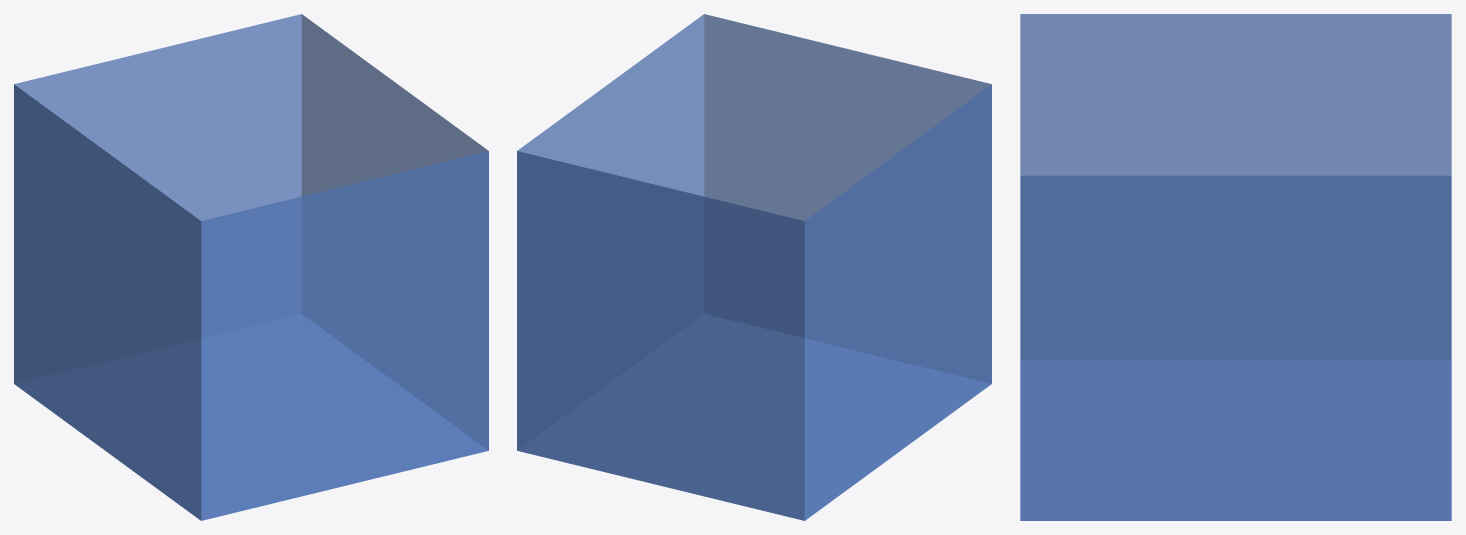
The picture shows the model from 3 angles, left to right: view 1: azimuth 30°, elevation 25°; view 2: azimuth 150°, elevation 25°; view 3: azimuth 270°, elevation 25°; orthographic projection. The views are drawn at different scales.
Visible parts, largest first — view 1: SketchUp; view 2: SketchUp; view 3: SketchUp.
Part boxes in pixels (x1=…): SketchUp: x1=14, y1=14, x2=488, y2=520; SketchUp: x1=517, y1=14, x2=991, y2=520; SketchUp: x1=1020, y1=14, x2=1451, y2=520.
Bounding box in the file's own units: 14.17 × 15.97 × 14.11.
